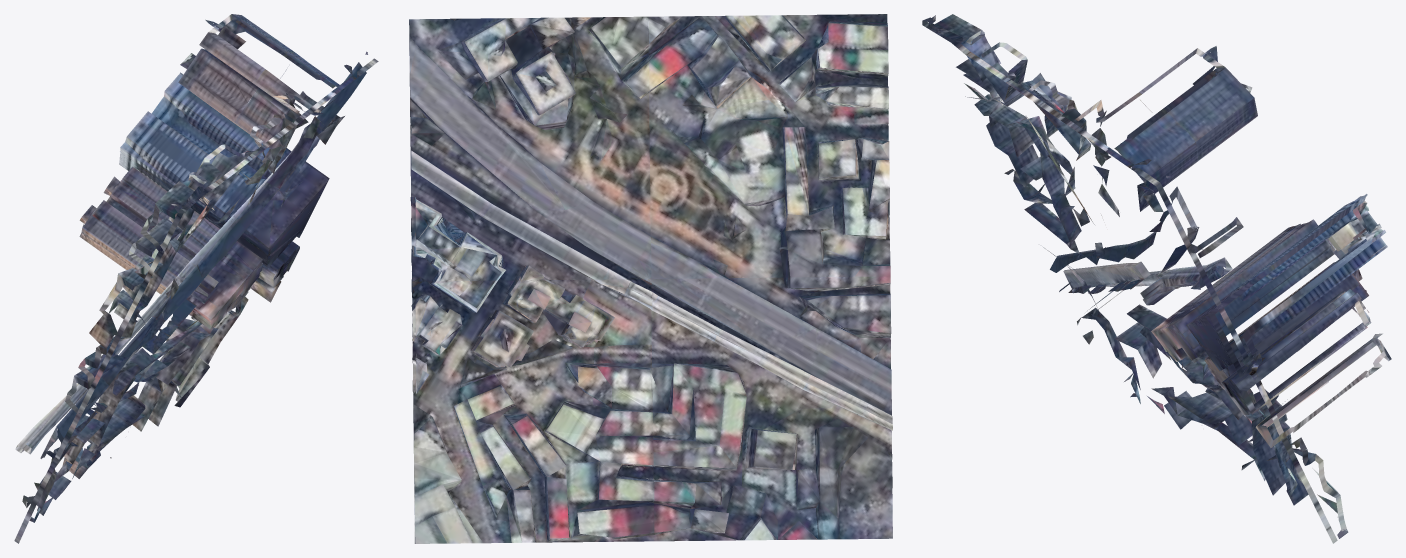
The picture shows the model from 3 angles, left to right: view 1: azimuth 30°, elevation 25°; view 2: azimuth 150°, elevation 25°; view 3: azimuth 270°, elevation 25°; orthographic projection. The views are drawn at different scales.
Size of the model in its own units: 305 by 319 by 291.
2 materials, 2 textured.
